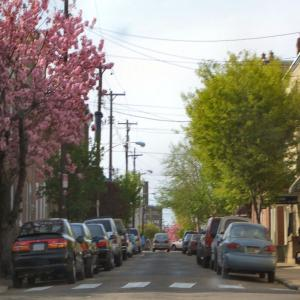Vehicle-registration-plate: (34, 244, 47, 253), (248, 249, 259, 255)
